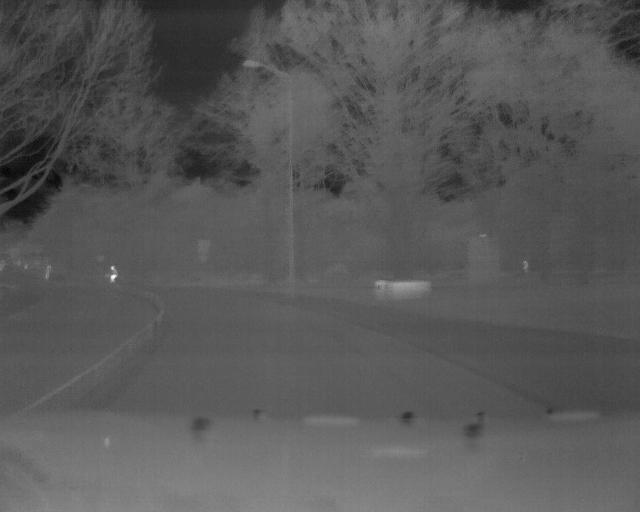person: (103, 260, 121, 288)
